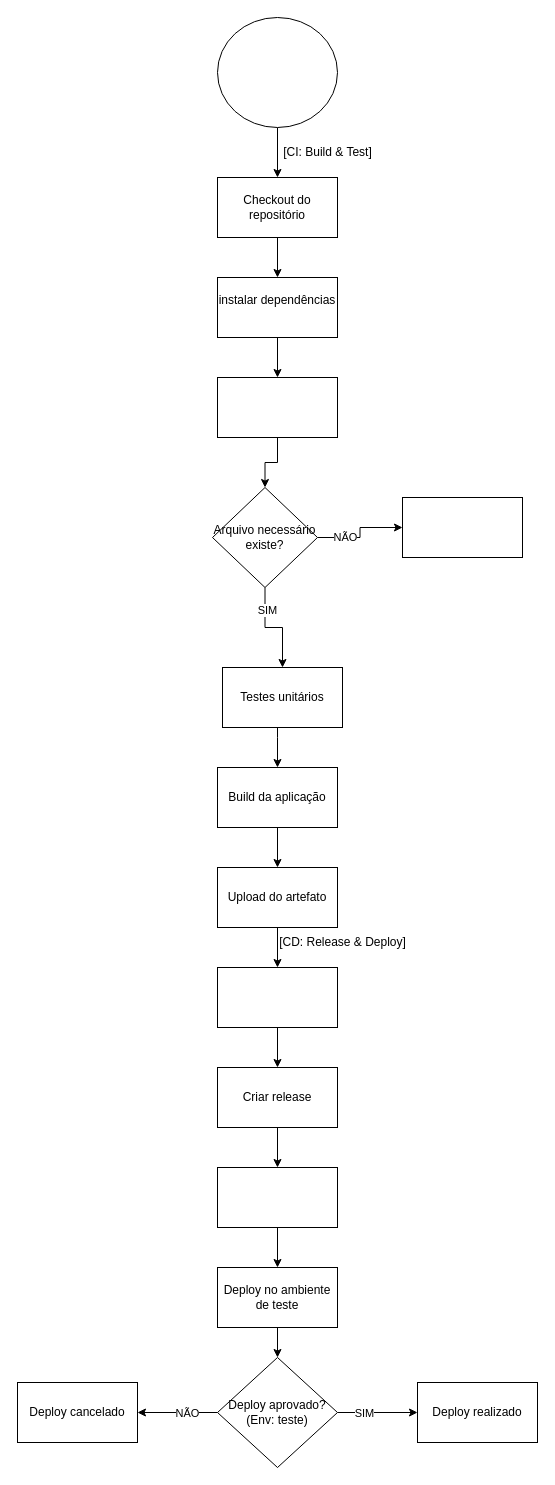
Image size: 555x1485. Some labels were removed from this diagram. The centre of each missing label's shape, as x and y in pixels:
Commit na branch "main": the point at 277,72
Download do artefato: the point at 277,997
Falha no Pipeline: the point at 462,527
Quality Gate: the point at 277,407
Upload do asset na release: the point at 277,1197
